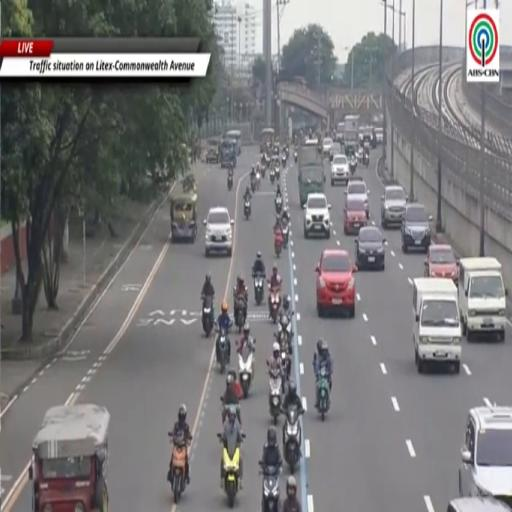car: (459, 404, 511, 505), (316, 249, 356, 317), (203, 206, 234, 257), (401, 203, 432, 253), (424, 245, 458, 284), (355, 227, 385, 269), (304, 194, 331, 238), (381, 185, 408, 228), (345, 176, 369, 217), (447, 496, 511, 511), (344, 197, 367, 234), (331, 154, 349, 185), (331, 141, 344, 156), (323, 138, 333, 157), (375, 127, 383, 145)
jeepney: (29, 405, 110, 511), (171, 192, 197, 243), (221, 138, 236, 167), (225, 131, 241, 155), (206, 138, 220, 164), (260, 127, 274, 153)
motorcycle: (218, 434, 240, 507), (168, 432, 190, 503), (283, 406, 301, 474), (260, 462, 280, 511), (316, 366, 330, 421), (269, 368, 282, 424), (239, 347, 253, 397), (278, 312, 293, 353), (216, 329, 229, 374), (221, 397, 241, 425), (202, 296, 214, 337), (280, 346, 290, 393), (270, 287, 281, 324), (234, 298, 245, 332), (254, 275, 264, 305), (274, 228, 284, 258), (282, 221, 289, 248), (244, 199, 251, 219), (275, 196, 282, 214), (256, 169, 262, 190), (251, 175, 256, 192), (275, 164, 280, 181), (350, 160, 356, 174), (363, 153, 369, 167), (281, 154, 287, 168), (270, 168, 275, 184), (228, 175, 233, 190), (261, 154, 266, 167), (261, 166, 266, 178), (294, 151, 297, 163)
truck: (298, 144, 325, 206), (344, 115, 360, 156)
